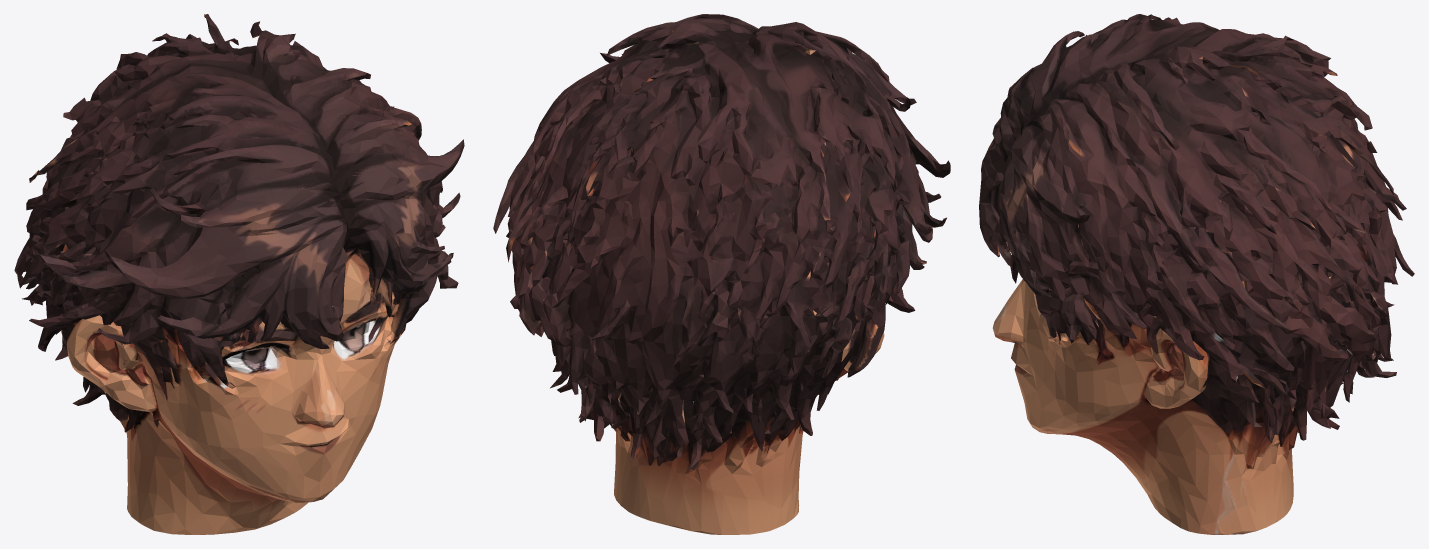
The model's file is side_musician_repaired_atlas.glb.
3 renders of one model, left to right at view 1: azimuth 30°, elevation 25°; view 2: azimuth 150°, elevation 25°; view 3: azimuth 270°, elevation 25°, orthographic. The views are drawn at different scales.
Parts seen in each view (by area): view 1: temp_mesh.ply; view 2: temp_mesh.ply; view 3: temp_mesh.ply.
Boxes of the visible parts, left/top/right/bottom form: temp_mesh.ply: left=14, top=14, right=464, bottom=534; temp_mesh.ply: left=493, top=14, right=950, bottom=534; temp_mesh.ply: left=979, top=14, right=1414, bottom=534.
Size of the model in its own units: 1.19 by 1.3 by 1.11.
Materials: 1 (1 with a texture image).
